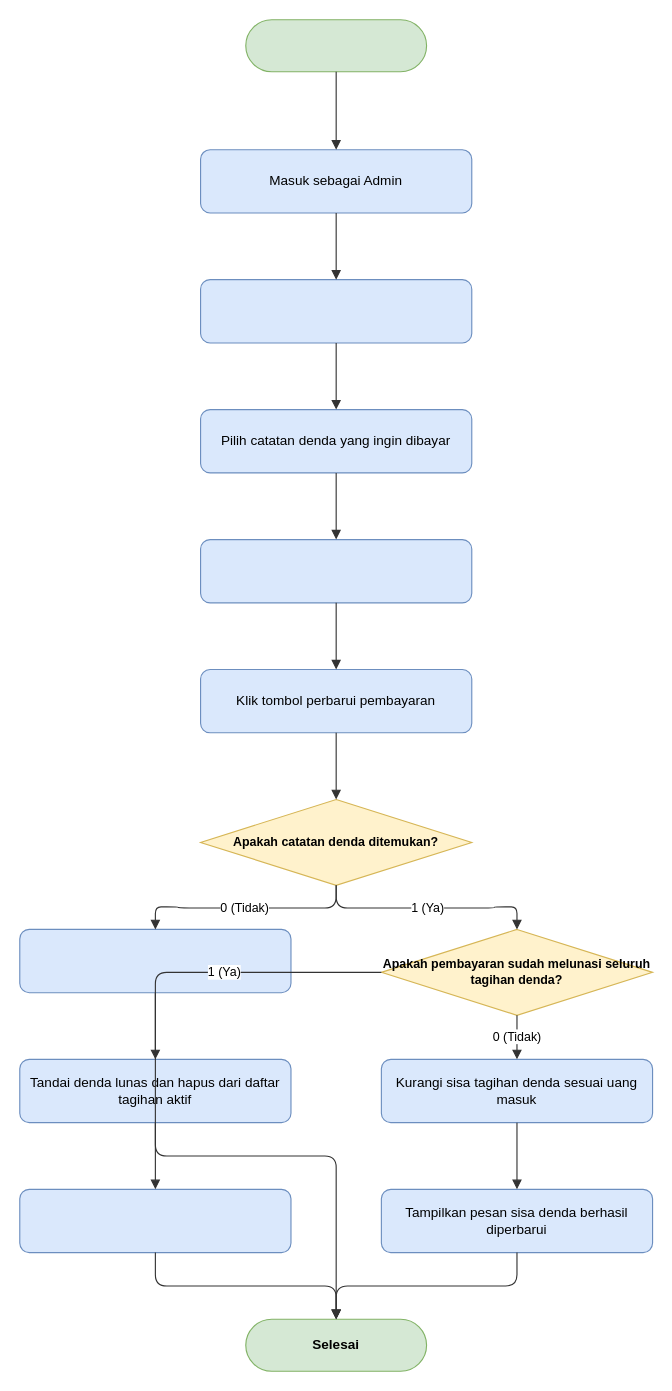
This 672x1391 diagram has some shape labels left out. The shapes that lost their labels are listed below. From the top down, each one's centre as x and y in pixels, then its label:
At (x=336, y=45): "Mulai".
At (x=335, y=311): "Buka menu daftar denda".
At (x=335, y=570): "Masukan jumlah uang pembayaran yang diterima".
At (x=155, y=960): "Tampilkan pesan data denda tidak ditemukan".
At (x=155, y=1220): "Tampilkan pesan denda telah lunas".
